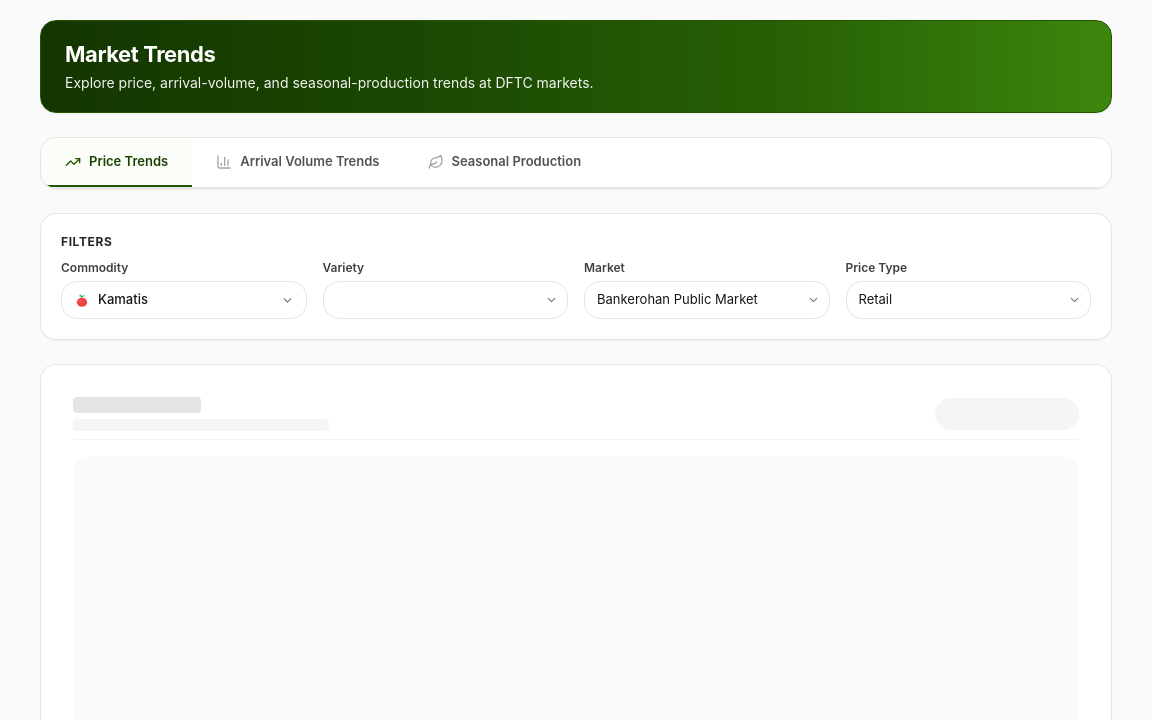
Test: DFTC Trends page prices API integration › keeps the full commodity list while the price catalog is still loading
This screenshot has width=1152, height=720.
Click the button "Kamatis" at (184, 300), box [61,281,306,319]
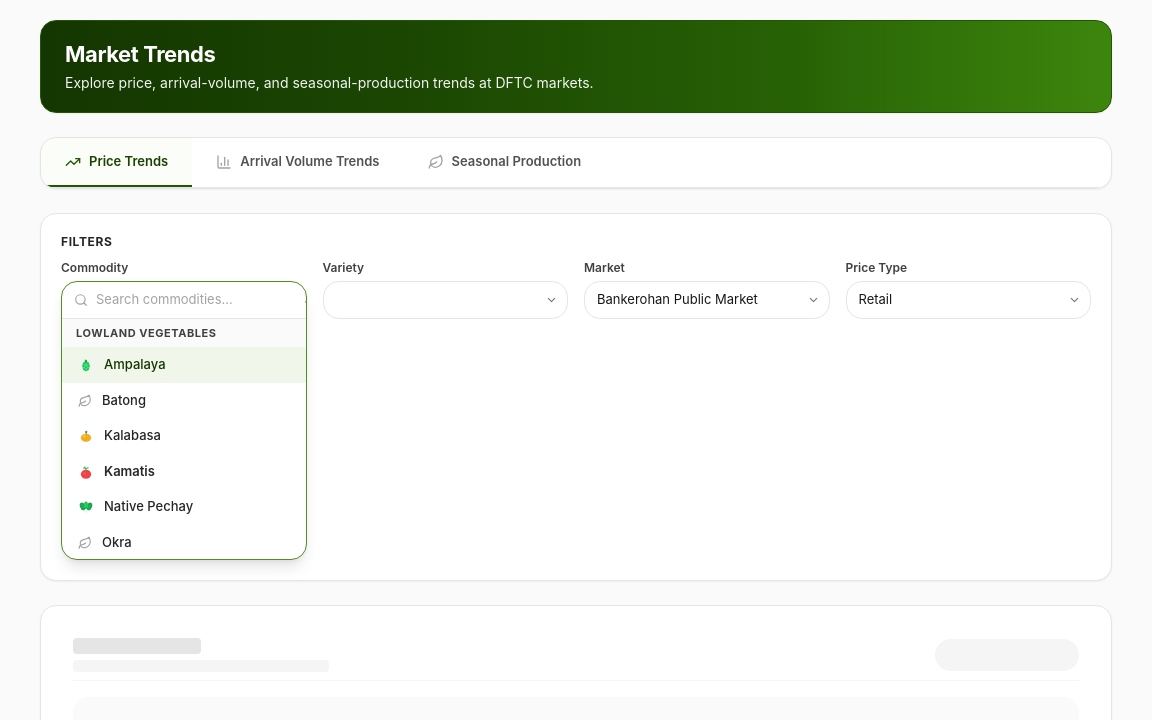
Type "Avocado" into the field with placeholder "Search commodities..." at (197, 300), box [96,290,298,310]
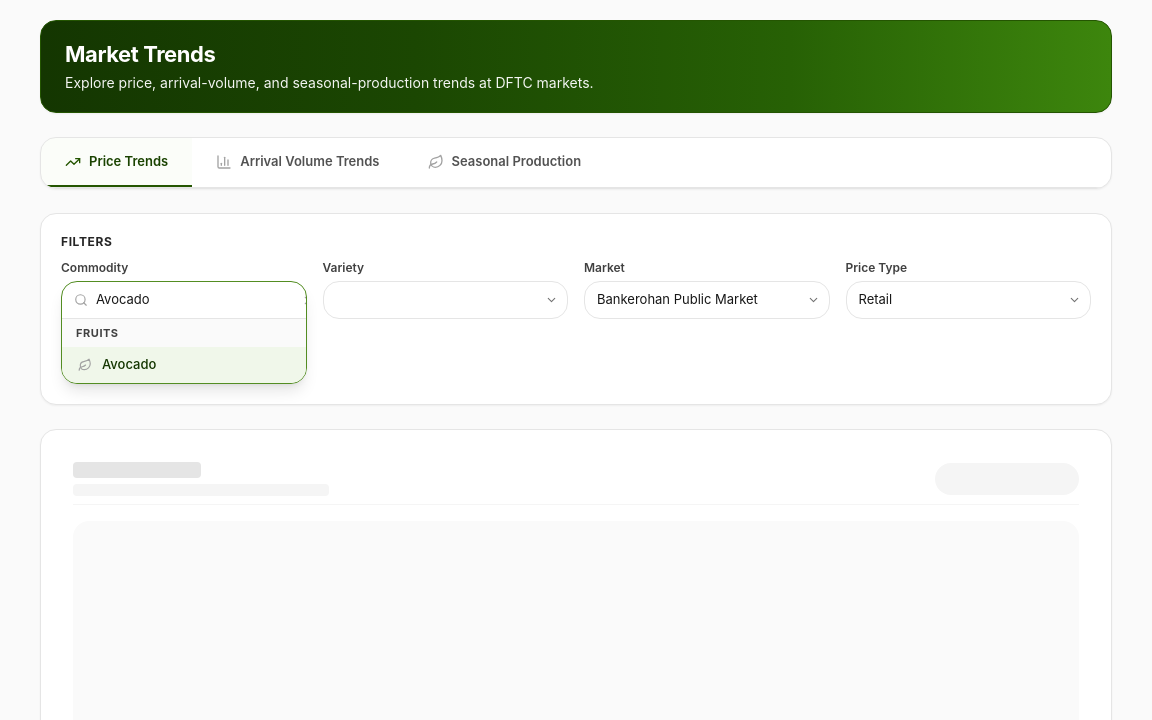
Expected: the button "Avocado" is shown, [62,347,306,383]
